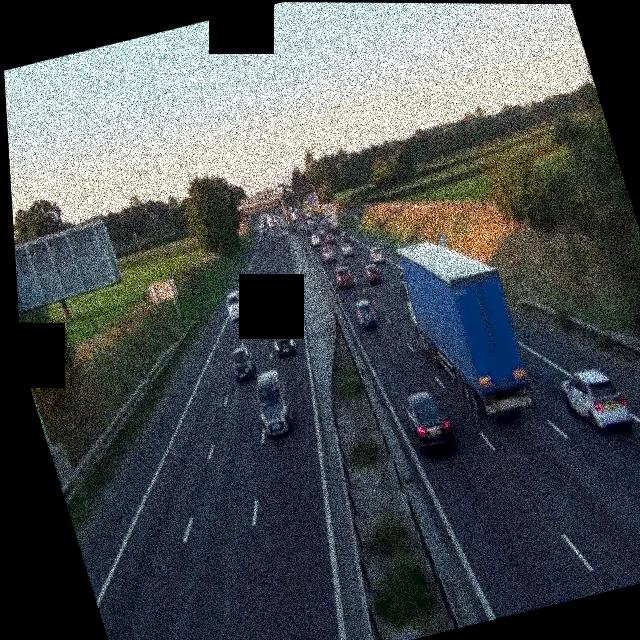car: (558, 362, 635, 437), (398, 387, 457, 455), (246, 367, 298, 438), (226, 342, 259, 382), (267, 320, 299, 359), (351, 295, 379, 330), (222, 288, 250, 321), (334, 263, 354, 288), (361, 264, 381, 285), (319, 246, 337, 264), (339, 238, 356, 257), (368, 245, 385, 264), (302, 222, 314, 237), (309, 232, 321, 246)
truck: (387, 223, 540, 426), (320, 204, 340, 232)
